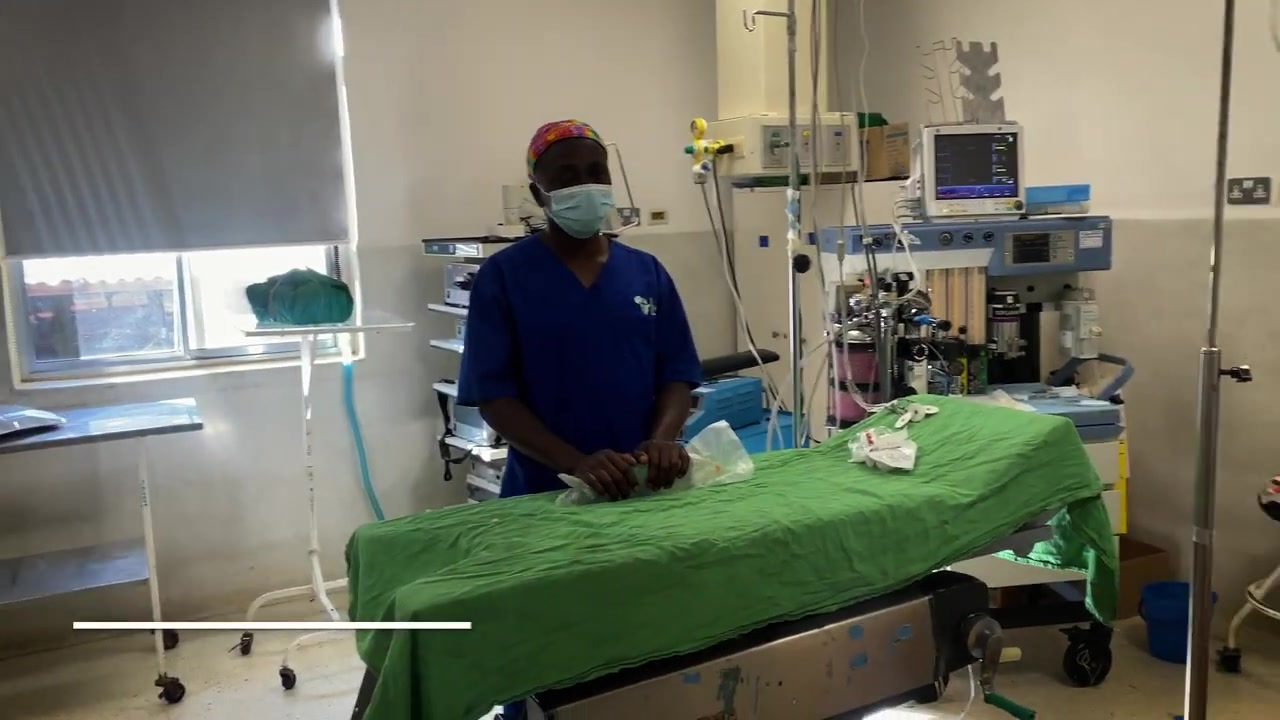bedside_monitor: (921, 120, 1024, 218)
hospital_bed: (342, 395, 1121, 720)
infusion_pump: (691, 108, 861, 188)
iv_pole: (1172, 1, 1251, 720), (742, 1, 801, 450)
medical_drawer: (963, 380, 1130, 544)
overbed_table: (220, 295, 412, 690)
staff: (454, 117, 707, 502)
utility_cart: (1, 399, 202, 704)
